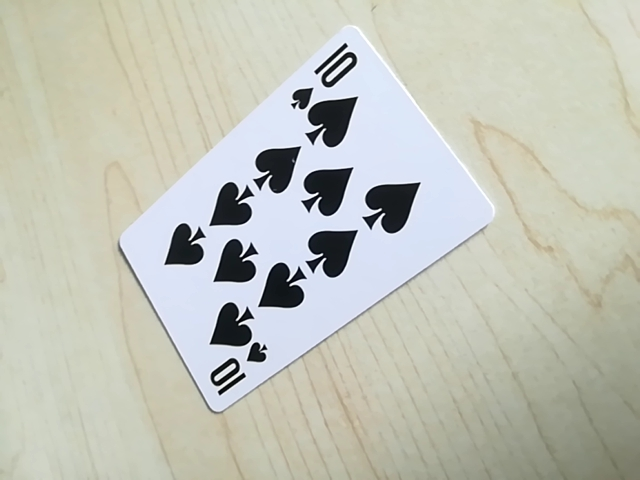ht 10: (291, 39, 364, 105), (204, 343, 272, 402)
